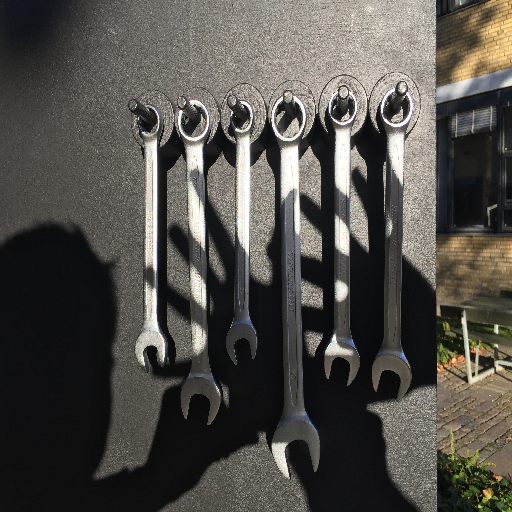bottom: (271, 413, 322, 480), (178, 370, 222, 428), (371, 349, 414, 401), (322, 335, 362, 387), (133, 327, 170, 370), (225, 319, 258, 367)
top: (268, 94, 308, 146), (377, 87, 415, 132), (176, 99, 213, 143), (327, 89, 359, 129), (228, 99, 257, 137), (136, 103, 164, 140)
